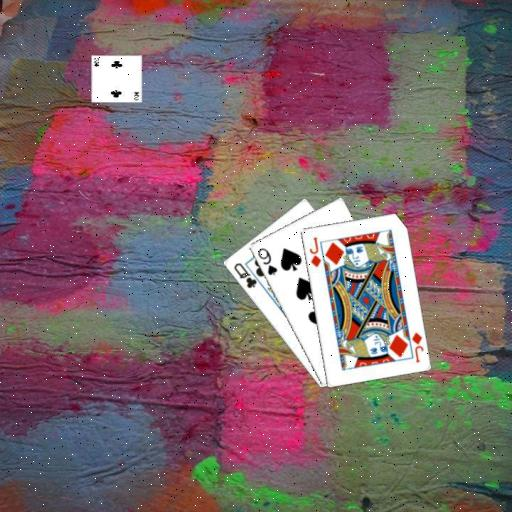9S: (255, 245, 279, 277)
JD: (306, 234, 322, 269), (409, 329, 425, 364)
QC: (231, 260, 259, 290)
